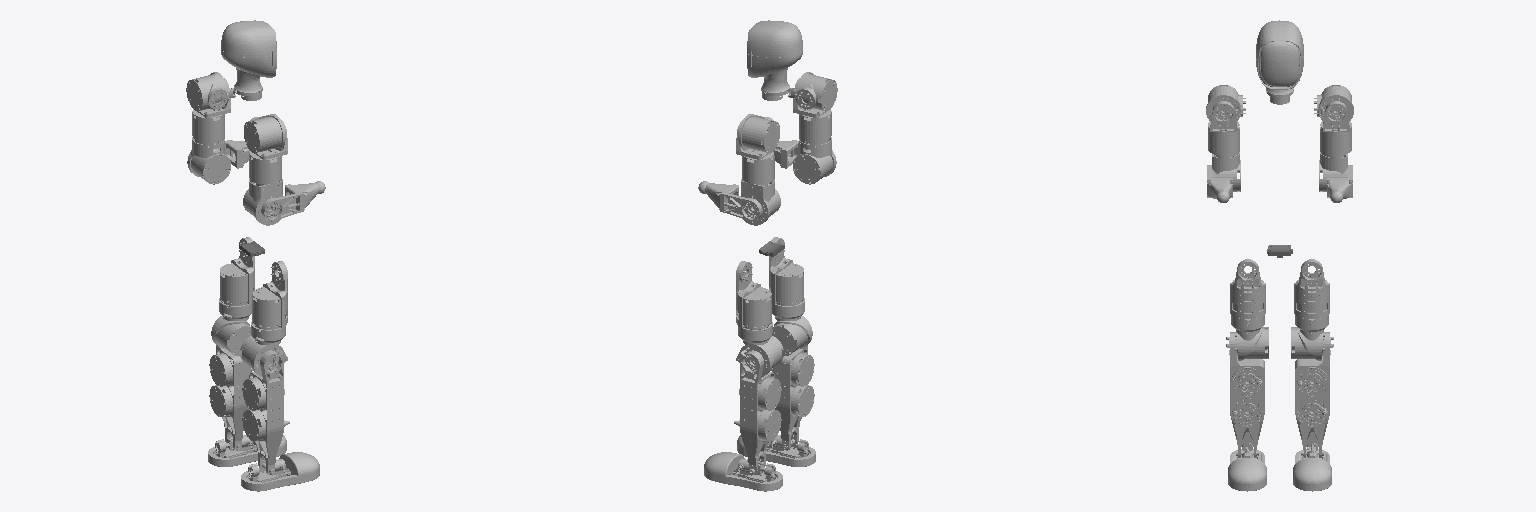
robot.urdf — mini3_27:
<?xml version="1.0"?>
<robot name="mini3_27">

    <link name="base_link">
      <visual>
        <origin xyz="0 0 0" rpy="0 0 0" />
        <geometry>
        <mesh filename="../meshes/base_link_mj.STL" />
        </geometry>
        <material>
          <color rgba="0.74902353 0.74902353 0.74902353 1.00000000" />
        </material>
      </visual>
      <collision>
        <origin xyz="0.0054139 0.0000217 0.0040027" rpy="1.5707963 0 0" />
        <geometry>
          <cylinder radius="0.035" length="0.12" />
        </geometry>
      </collision>
      <inertial>
        <origin xyz="-0.00087 -0.0000002 0.002345" rpy="0 0 0" />
        <mass value="1.0050972" />
        <inertia ixx="0.0015078" ixy="1.01901e-07" ixz="1.681366e-05" iyy="0.0005737024" iyz="-1.01901e-07" izz="0.0014912" />
      </inertial>
    </link>

    <link name="imu_link">
      <visual>
        <origin xyz="0 0 0" rpy="0 0 0" />
        <geometry>
        <mesh filename="../meshes/imu_link.STL" />
        </geometry>
        <material>
          <color rgba="0.49804314 0.49804314 0.49804314 1.00000000" />
        </material>
      </visual>
      <inertial>
        <origin xyz="0.0000067 -0.0001099 0.0066282" rpy="0 0 0" />
        <mass value="0.026293" />
        <inertia ixx="3.834323e-06" ixy="0" ixz="0" iyy="2.440024e-06" iyz="0" izz="5.577197e-06" />
      </inertial>
    </link>

    <link name="left_hip_pitch_link">
      <visual>
        <origin xyz="0 0 0" rpy="0 0 0" />
        <geometry>
        <mesh filename="../meshes/left_hip_pitch_link.STL" />
        </geometry>
        <material>
          <color rgba="0.74902353 0.74902353 0.74902353 1.00000000" />
        </material>
      </visual>
      <inertial>
        <origin xyz="-0.0029284 0.0018352 -0.0518352" rpy="0 0 0" />
        <mass value="0.4980043" />
        <inertia ixx="0.0003398972" ixy="-3.013458e-06" ixz="-1.870422e-05" iyy="0.0003523667" iyz="-1.537902e-05" izz="0.0002316206" />
      </inertial>
    </link>

    <link name="left_hip_roll_link">
      <visual>
        <origin xyz="0 0 0" rpy="0 0 0" />
        <geometry>
        <mesh filename="../meshes/left_hip_roll_link.STL" />
        </geometry>
        <material>
          <color rgba="0.74902353 0.74902353 0.74902353 1.00000000" />
        </material>
      </visual>
      <collision>
        <origin xyz="-0.013 0.00 -0.075" rpy="0 0 0" />
        <geometry>
          <cylinder radius="0.035" length="0.06" />
        </geometry>
      </collision>
      <inertial>
        <origin xyz="-0.0103937 -0.000043 -0.0562074" rpy="0 0 0" />
        <mass value="0.478866" />
        <inertia ixx="0.0003235694" ixy="-1.040751e-07" ixz="-4.79786e-05" iyy="0.0003326239" iyz="6.244504e-07" izz="0.0002055482" />
      </inertial>
    </link>

    <link name="left_hip_yaw_link">
      <visual>
        <origin xyz="0 0 0" rpy="0 0 0" />
        <geometry>
        <mesh filename="../meshes/left_hip_yaw_link.STL" />
        </geometry>
        <material>
          <color rgba="0.74902353 0.74902353 0.74902353 1.00000000" />
        </material>
      </visual>
      <inertial>
        <origin xyz="-0.0044749 -0.002653 -0.0538143" rpy="0 0 0" />
        <mass value="0.4886384" />
        <inertia ixx="0.0003362007" ixy="-6.75937e-06" ixz="-2.838935e-05" iyy="0.0003385924" iyz="-1.93422e-05" izz="0.0002201475" />
      </inertial>
    </link>

    <link name="left_knee_pitch_link">
      <visual>
        <origin xyz="0 0 0" rpy="0 0 0" />
        <geometry>
        <mesh filename="../meshes/left_knee_pitch_link.STL" />
        </geometry>
        <material>
          <color rgba="0.74902353 0.74902353 0.74902353 1.00000000" />
        </material>
      </visual>
      <collision>
        <origin xyz="0.0023641 -0.0155939 -0.1003981" rpy="0 0 0" />
        <geometry>
          <cylinder radius="0.045" length="0.15" />
        </geometry>
      </collision>
      <inertial>
        <origin xyz="0.00524 -0.01321 -0.0967858" rpy="0 0 0" />
        <mass value="0.9651771" />
        <inertia ixx="0.0021286" ixy="4.079245e-07" ixz="1.427736e-05" iyy="0.0020648" iyz="-7.587396e-05" izz="0.0004503487" />
      </inertial>
    </link>

    <link name="left_ankle_pitch_link">
      <visual>
        <origin xyz="0 0 0" rpy="0 0 0" />
        <geometry>
        <mesh filename="../meshes/left_ankle_pitch_link.STL" />
        </geometry>
        <material>
          <color rgba="0.74902353 0.74902353 0.74902353 1.00000000" />
        </material>
      </visual>
      <inertial>
        <origin xyz="-0.0018094 -0.0002054 0" rpy="0 0 0" />
        <mass value="0.0606722" />
        <inertia ixx="2.605063e-06" ixy="0" ixz="0" iyy="7.525737e-06" iyz="0" izz="6.367931e-06" />
      </inertial>
    </link>

    <link name="left_ankle_roll_link">
      <visual>
        <origin xyz="0 0 0" rpy="0 0 0" />
        <geometry>
        <mesh filename="../meshes/left_ankle_roll_link.STL" />
        </geometry>
        <material>
          <color rgba="0.74902353 0.74902353 0.74902353 1.00000000" />
        </material>
      </visual>
      <collision>
        <!-- <origin xyz="0.027 0 -0.018" rpy="0 0 0" /> -->
        <origin xyz="0.0 0.0 0.0" rpy="0 0 0" />
        <geometry>
          <!-- <box size="0.13 0.05 0.02" /> -->
          <mesh filename="../meshes/left_ankle_roll_link.STL" />
        </geometry>
      </collision>
      <inertial>
        <origin xyz="0.0237005 -0.0000052 -0.0148858" rpy="0 0 0" />
        <mass value="0.2257336" />
        <inertia ixx="8.321178e-05" ixy="0" ixz="9.597165e-06" iyy="0.0003770159" iyz="0" izz="0.0004089701" />
      </inertial>
    </link>

    <link name="right_hip_pitch_link">
      <visual>
        <origin xyz="0 0 0" rpy="0 0 0" />
        <geometry>
        <mesh filename="../meshes/right_hip_pitch_link.STL" />
        </geometry>
        <material>
          <color rgba="0.74902353 0.74902353 0.74902353 1.00000000" />
        </material>
      </visual>
      <inertial>
        <origin xyz="-0.0029286 -0.0018352 -0.0519071" rpy="0 0 0" />
        <mass value="0.4980042" />
        <inertia ixx="0.0003405207" ixy="3.013458e-06" ixz="-2.02629e-05" iyy="0.0003528863" iyz="1.527511e-05" izz="0.0002316206" />
      </inertial>
    </link>

    <link name="right_hip_roll_link">
      <visual>
        <origin xyz="0 0 0" rpy="0 0 0" />
        <geometry>
        <mesh filename="../meshes/right_hip_roll_link.STL" />
        </geometry>
        <material>
          <color rgba="0.74902353 0.74902353 0.74902353 1.00000000" />
        </material>
      </visual>
      <collision>
        <origin xyz="-0.013 0.0 -0.075" rpy="0 0 0" />
        <geometry>
          <cylinder radius="0.035" length="0.06" />
        </geometry>
      </collision>
      <inertial>
        <origin xyz="-0.0103937 0.0000429 -0.0562074" rpy="0 0 0" />
        <mass value="0.478866" />
        <inertia ixx="0.0003235694" ixy="1.040751e-07" ixz="-4.79786e-05" iyy="0.0003326239" iyz="-6.244504e-07" izz="0.0002055482" />
      </inertial>
    </link>

    <link name="right_hip_yaw_link">
      <visual>
        <origin xyz="0 0 0" rpy="0 0 0" />
        <geometry>
        <mesh filename="../meshes/right_hip_yaw_link.STL" />
        </geometry>
        <material>
          <color rgba="0.74902353 0.74902353 0.74902353 1.00000000" />
        </material>
      </visual>
      <inertial>
        <origin xyz="-0.004476 0.0027092 -0.0538973" rpy="0 0 0" />
        <mass value="0.4886279" />
        <inertia ixx="0.0003368249" ixy="7.071347e-06" ixz="-2.859736e-05" iyy="0.0003394247" iyz="2.038212e-05" izz="0.0002200437" />
      </inertial>
    </link>

    <link name="right_knee_pitch_link">
      <visual>
        <origin xyz="0 0 0" rpy="0 0 0" />
        <geometry>
        <mesh filename="../meshes/right_knee_pitch_link.STL" />
        </geometry>
        <material>
          <color rgba="0.74902353 0.74902353 0.74902353 1.00000000" />
        </material>
      </visual>
      <collision>
        <origin xyz="0.0025553 0.015072 -0.10242" rpy="0 0 0" />
        <geometry>
          <cylinder radius="0.045" length="0.15" />
        </geometry>
      </collision>
      <inertial>
        <origin xyz="0.00524 0.0131919 -0.096817" rpy="0 0 0" />
        <mass value="0.9651751" />
        <inertia ixx="0.0021255" ixy="-1.223774e-06" ixz="1.284962e-05" iyy="0.0020617" iyz="7.668982e-05" izz="0.0004503487" />
      </inertial>
    </link>

    <link name="right_ankle_pitch_link">
      <visual>
        <origin xyz="0 0 0" rpy="0 0 0" />
        <geometry>
        <mesh filename="../meshes/right_ankle_pitch_link.STL" />
        </geometry>
        <material>
          <color rgba="0.74902353 0.74902353 0.74902353 1.00000000" />
        </material>
      </visual>
      <inertial>
        <origin xyz="-0.0018094 -0.0002054 0" rpy="0 0 0" />
        <mass value="0.0606722" />
        <inertia ixx="2.605063e-06" ixy="0" ixz="0" iyy="7.525737e-06" iyz="0" izz="6.367931e-06" />
      </inertial>
    </link>

    <link name="right_ankle_roll_link">
      <visual>
        <origin xyz="0 0 0" rpy="0 0 0" />
        <geometry>
        <mesh filename="../meshes/right_ankle_roll_link.STL" />
        </geometry>
        <material>
          <color rgba="0.74902353 0.74902353 0.74902353 1.00000000" />
        </material>
      </visual>
      <collision>
        <!-- <origin xyz="0.027 0 -0.018" rpy="0 0 0" /> -->
        <origin xyz="0.0 0.0 0.0" rpy="0 0 0" />
        <geometry>
          <!-- <box size="0.13 0.05 0.02" /> -->
          <mesh filename="../meshes/right_ankle_roll_link.STL" />
        </geometry>
      </collision>
      <inertial>
        <origin xyz="0.0237005 -0.0000052 -0.0148858" rpy="0 0 0" />
        <mass value="0.2257336" />
        <inertia ixx="8.321178e-05" ixy="0" ixz="9.597165e-06" iyy="0.0003770159" iyz="0" izz="0.0004089701" />
      </inertial>
    </link>

    <link name="waist_yaw_link">
      <visual>
        <origin xyz="0 0 0" rpy="0 0 0" />
        <geometry>
        <mesh filename="../meshes/waist_yaw_link_mj.STL" />
        </geometry>
        <material>
          <color rgba="0.74902353 0.74902353 0.74902353 1.00000000" />
        </material>
      </visual>
      <collision>
        <origin xyz="0.0148498 0 0.13" rpy="0 0 0" />
        <geometry>
          <box size="0.11 0.12 0.15" />
        </geometry>
      </collision>
      <inertial>
        <origin xyz="0.0071604 -0.0003445 0.1204239" rpy="0 0 0" />
        <mass value="3.4517348" />
        <inertia ixx="0.0167038" ixy="2.636183e-05" ixz="0.0003811874" iyy="0.0152238" iyz="2.624415e-05" izz="0.00595" />
      </inertial>
    </link>

    <link name="head_link">
      <visual>
        <origin xyz="0 0 0" rpy="0 0 0" />
        <geometry>
        <mesh filename="../meshes/head_link.STL" />
        </geometry>
        <material>
          <color rgba="0.74902353 0.74902353 0.74902353 1.00000000" />
        </material>
      </visual>
      <collision>
        <origin xyz="-0.0006086 -0.000089 0.03" rpy="0 0 0" />
        <geometry>
          <cylinder radius="0.05" length="0.09" />
        </geometry>
      </collision>
      <inertial>
        <origin xyz="0.0019948 0.0000069 0.0196542" rpy="0 0 0" />
        <mass value="0.1674291" />
        <inertia ixx="0.0003061895" ixy="0" ixz="1.767994e-05" iyy="0.0003440268" iyz="0" izz="0.0002040512" />
      </inertial>
    </link>

    <link name="left_shoulder_pitch_link">
      <visual>
        <origin xyz="0 0 0" rpy="0 0 0" />
        <geometry>
        <mesh filename="../meshes/left_shoulder_pitch_link.STL" />
        </geometry>
        <material>
          <color rgba="0.74902353 0.74902353 0.74902353 1.00000000" />
        </material>
      </visual>
      <inertial>
        <origin xyz="0.0018336 0.0301072 -0.0000031" rpy="0 0 0" />
        <mass value="0.3669218" />
        <inertia ixx="0.0001734642" ixy="3.899255e-06" ixz="0" iyy="0.0001478555" iyz="0" izz="0.0001642956" />
      </inertial>
    </link>

    <link name="left_shoulder_roll_link">
      <visual>
        <origin xyz="0 0 0" rpy="0 0 0" />
        <geometry>
        <mesh filename="../meshes/left_shoulder_roll_link.STL" />
        </geometry>
        <material>
          <color rgba="0.74902353 0.74902353 0.74902353 1.00000000" />
        </material>
      </visual>
      <collision>
        <origin xyz="-0.0153644 -0.0026942 -0.06" rpy="0 0 0" />
        <geometry>
          <cylinder radius="0.03" length="0.1" />
        </geometry>
      </collision>
      <inertial>
        <origin xyz="-0.0149271 -0.0008274 -0.0500124" rpy="0 0 0" />
        <mass value="0.3853307" />
        <inertia ixx="0.0002561649" ixy="-4.204593e-07" ixz="-4.635564e-05" iyy="0.0002703554" iyz="-4.730168e-06" izz="0.0001733344" />
      </inertial>
    </link>

    <link name="left_shoulder_yaw_link">
      <visual>
        <origin xyz="0 0 0" rpy="0 0 0" />
        <geometry>
        <mesh filename="../meshes/left_shoulder_yaw_link.STL" />
        </geometry>
        <material>
          <color rgba="0.74902353 0.74902353 0.74902353 1.00000000" />
        </material>
      </visual>
      <inertial>
        <origin xyz="-0.0000206 -0.000693 -0.0405367" rpy="0 0 0" />
        <mass value="0.3939033" />
        <inertia ixx="0.0002169258" ixy="-3.149939e-07" ixz="3.149939e-07" iyy="0.0002319405" iyz="-4.934904e-06" izz="0.0001630618" />
      </inertial>
    </link>

    <link name="left_elbow_pitch_link">
      <visual>
        <origin xyz="0 0 0" rpy="0 0 0" />
        <geometry>
        <mesh filename="../meshes/left_elbow_pitch_link.STL" />
        </geometry>
        <material>
          <color rgba="0.74902353 0.74902353 0.74902353 1.00000000" />
        </material>
      </visual>
      <collision>
        <origin xyz="0.107 -0.018 0.0085" rpy="0 0 0" />
        <geometry>
          <sphere radius="0.0116" />
        </geometry>
      </collision>
      <inertial>
        <origin xyz="0.0395905 -0.005665 0.0018103" rpy="0 0 0" />
        <mass value="0.0894731" />
        <inertia ixx="3.09954e-05" ixy="2.188655e-05" ixz="-5.186986e-06" iyy="0.0001039927" iyz="1.138607e-06" izz="0.0001093062" />
      </inertial>
    </link>

    <link name="right_shoulder_pitch_link">
      <visual>
        <origin xyz="0 0 0" rpy="0 0 0" />
        <geometry>
        <mesh filename="../meshes/right_shoulder_pitch_link.STL" />
        </geometry>
        <material>
          <color rgba="0.74902353 0.74902353 0.74902353 1.00000000" />
        </material>
      </visual>
      <inertial>
        <origin xyz="0.0018237 -0.0302369 0.0000067" rpy="0 0 0" />
        <mass value="0.3669218" />
        <inertia ixx="0.0001736749" ixy="-5.374649e-06" ixz="0" iyy="0.0001478555" iyz="0" izz="0.0001645064" />
      </inertial>
    </link>

    <link name="right_shoulder_roll_link">
      <visual>
        <origin xyz="0 0 0" rpy="0 0 0" />
        <geometry>
        <mesh filename="../meshes/right_shoulder_roll_link.STL" />
        </geometry>
        <material>
          <color rgba="0.74902353 0.74902353 0.74902353 1.00000000" />
        </material>
      </visual>
      <collision>
        <origin xyz="-0.01513 0.0015086 -0.06" rpy="0 0 0" />
        <geometry>
          <cylinder radius="0.03" length="0.1" />
        </geometry>
      </collision>
      <inertial>
        <origin xyz="-0.0149019 0.000812 -0.0499282" rpy="0 0 0" />
        <mass value="0.3856285" />
        <inertia ixx="0.0002572058" ixy="4.204427e-07" ixz="-4.666914e-05" iyy="0.0002715009" iyz="4.729981e-06" izz="0.0001735377" />
      </inertial>
    </link>

    <link name="right_shoulder_yaw_link">
      <visual>
        <origin xyz="0 0 0" rpy="0 0 0" />
        <geometry>
        <mesh filename="../meshes/right_shoulder_yaw_link.STL" />
        </geometry>
        <material>
          <color rgba="0.74902353 0.74902353 0.74902353 1.00000000" />
        </material>
      </visual>
      <inertial>
        <origin xyz="-0.0000206 0.000697 -0.0404716" rpy="0 0 0" />
        <mass value="0.3942011" />
        <inertia ixx="0.0002176525" ixy="3.14982e-07" ixz="2.09988e-07" iyy="0.0002325617" iyz="4.934718e-06" izz="0.0001630557" />
      </inertial>
    </link>

    <link name="right_elbow_pitch_link">
      <visual>
        <origin xyz="0 0 0" rpy="0 0 0" />
        <geometry>
        <mesh filename="../meshes/right_elbow_pitch_link.STL" />
        </geometry>
        <material>
          <color rgba="0.74902353 0.74902353 0.74902353 1.00000000" />
        </material>
      </visual>
      <collision>
        <origin xyz="0.107 0.018 0.0085" rpy="0 0 0" />
        <geometry>
          <sphere radius="0.0116" />
        </geometry>
      </collision>
      <inertial>
        <origin xyz="0.0395959 0.0056647 0.0018132" rpy="0 0 0" />
        <mass value="0.0894753" />
        <inertia ixx="3.09952e-05" ixy="-2.188641e-05" ixz="-5.186952e-06" iyy="0.0001039921" iyz="-1.138599e-06" izz="0.0001093055" />
      </inertial>
    </link>

  <joint name="imu_joint" type="fixed">
    <parent link="base_link" />
    <child link="imu_link" />
    <origin xyz="0 0 -0.044" rpy="0 0 0" />
  </joint>

  <joint name="left_hip_pitch_joint" type="revolute">
    <parent link="base_link" />
    <child link="left_hip_pitch_link" />
    <origin xyz="0 0.05775 0" rpy="0 0 0" />
    <axis xyz="0 1 0" />
    <limit lower="-1.8326" upper="1.8326" effort="27" velocity="10" />
  </joint>

  <joint name="left_hip_roll_joint" type="revolute">
    <parent link="left_hip_pitch_link" />
    <child link="left_hip_roll_link" />
    <origin xyz="0.018 -0.001 -0.064" rpy="0 0 0" />
    <axis xyz="1 0 0" />
    <limit lower="-0.8727" upper="1.3963" effort="27" velocity="10" />
  </joint>

  <joint name="left_hip_yaw_joint" type="revolute">
    <parent link="left_hip_roll_link" />
    <child link="left_hip_yaw_link" />
    <origin xyz="-0.0173 0 -0.08905" rpy="0 0 0" />
    <axis xyz="0 0 1" />
    <limit lower="-1.9199" upper="1.9199" effort="27" velocity="10" />
  </joint>

  <joint name="left_knee_pitch_joint" type="revolute">
    <parent link="left_hip_yaw_link" />
    <child link="left_knee_pitch_link" />
    <origin xyz="-0.0079999 0.01605 -0.068" rpy="0 0 0" />
    <axis xyz="0 1 0" />
    <limit lower="-0.3491" upper="1.9199" effort="27" velocity="10" />
  </joint>

  <joint name="left_ankle_pitch_joint" type="revolute">
    <parent link="left_knee_pitch_link" />
    <child link="left_ankle_pitch_link" />
    <origin xyz="0.0040003 -0.015 -0.214" rpy="0 0 0" />
    <axis xyz="0 1 0" />
    <limit lower="-0.7" upper="0.7" effort="25" velocity="45" />
  </joint>

  <joint name="left_ankle_roll_joint" type="revolute">
    <parent link="left_ankle_pitch_link" />
    <child link="left_ankle_roll_link" />
    <origin xyz="0 0 0" rpy="0 0 0" />
    <axis xyz="1 0 0" />
    <limit lower="-0.518" upper="0.518" effort="25" velocity="45" />
  </joint>

  <joint name="right_hip_pitch_joint" type="revolute">
    <parent link="base_link" />
    <child link="right_hip_pitch_link" />
    <origin xyz="0 -0.05775 0" rpy="0 0 0" />
    <axis xyz="0 1 0" />
    <limit lower="-1.8326" upper="1.8326" effort="27" velocity="10" />
  </joint>

  <joint name="right_hip_roll_joint" type="revolute">
    <parent link="right_hip_pitch_link" />
    <child link="right_hip_roll_link" />
    <origin xyz="0.018 0.001 -0.064" rpy="0 0 0" />
    <axis xyz="1 0 0" />
    <limit lower="-1.3963" upper="0.8727" effort="27" velocity="10" />
  </joint>

  <joint name="right_hip_yaw_joint" type="revolute">
    <parent link="right_hip_roll_link" />
    <child link="right_hip_yaw_link" />
    <origin xyz="-0.0173 0 -0.08905" rpy="0 0 0" />
    <axis xyz="0 0 1" />
    <limit lower="-1.9199" upper="1.9199" effort="27" velocity="10" />
  </joint>

  <joint name="right_knee_pitch_joint" type="revolute">
    <parent link="right_hip_yaw_link" />
    <child link="right_knee_pitch_link" />
    <origin xyz="-0.0079999 -0.01605 -0.068" rpy="0 0 0" />
    <axis xyz="0 1 0" />
    <limit lower="-0.3491" upper="1.9199" effort="27" velocity="10" />
  </joint>

  <joint name="right_ankle_pitch_joint" type="revolute">
    <parent link="right_knee_pitch_link" />
    <child link="right_ankle_pitch_link" />
    <origin xyz="0.0040003 0.015 -0.214" rpy="0 0 0" />
    <axis xyz="0 1 0" />
    <limit lower="-0.7" upper="0.7" effort="25" velocity="45" />
  </joint>

  <joint name="right_ankle_roll_joint" type="revolute">
    <parent link="right_ankle_pitch_link" />
    <child link="right_ankle_roll_link" />
    <origin xyz="0 0 0" rpy="0 0 0" />
    <axis xyz="1 0 0" />
    <limit lower="-0.518" upper="0.518" effort="25" velocity="45" />
  </joint>

  <joint name="waist_yaw_joint" type="revolute">
    <parent link="base_link" />
    <child link="waist_yaw_link" />
    <origin xyz="-0.022 0 0.0385" rpy="0 0 0" />
    <axis xyz="0 0 1" />
    <limit lower="-2.618" upper="2.618" effort="27" velocity="10" />
  </joint>

  <joint name="head_joint" type="fixed">
    <parent link="waist_yaw_link" />
    <child link="head_link" />
    <origin xyz="0.016552 0 0.27947" rpy="0 0 0" />
  </joint>

  <joint name="left_shoulder_pitch_joint" type="revolute">
    <parent link="waist_yaw_link" />
    <child link="left_shoulder_pitch_link" />
    <origin xyz="-0.008007 0.06505 0.19505" rpy="0 0 0" />
    <axis xyz="0 1 0" />
    <limit lower="-3.4907" upper="1.0472" effort="12.5" velocity="45" />
  </joint>

  <joint name="left_shoulder_roll_joint" type="revolute">
    <parent link="left_shoulder_pitch_link" />
    <child link="left_shoulder_roll_link" />
    <origin xyz="0.020507 0.035007 0" rpy="0 0 0" />
    <axis xyz="1 0 0" />
    <limit lower="-0.1745" upper="3.1416" effort="12.5" velocity="45" />
  </joint>

  <joint name="left_shoulder_yaw_joint" type="revolute">
    <parent link="left_shoulder_roll_link" />
    <child link="left_shoulder_yaw_link" />
    <origin xyz="-0.020507 0 -0.086048" rpy="0 0 0" />
    <axis xyz="0 0 1" />
    <limit lower="-1.5708" upper="1.5708" effort="12.5" velocity="45" />
  </joint>

  <joint name="left_elbow_pitch_joint" type="revolute">
    <parent link="left_shoulder_yaw_link" />
    <child link="left_elbow_pitch_link" />
    <origin xyz="0.0000128 0.018503 -0.051005" rpy="0 0 0" />
    <axis xyz="0 1 0" />
    <limit lower="-0.576" upper="3.8397" effort="12.5" velocity="45" />
  </joint>

  <joint name="right_shoulder_pitch_joint" type="revolute">
    <parent link="waist_yaw_link" />
    <child link="right_shoulder_pitch_link" />
    <origin xyz="-0.0079971 -0.06505 0.19504" rpy="0 0 0" />
    <axis xyz="0 1 0" />
    <limit lower="-3.4907" upper="1.0472" effort="12.5" velocity="45" />
  </joint>

  <joint name="right_shoulder_roll_joint" type="revolute">
    <parent link="right_shoulder_pitch_link" />
    <child link="right_shoulder_roll_link" />
    <origin xyz="0.020497 -0.034993 0" rpy="0 0 0" />
    <axis xyz="1 0 0" />
    <limit lower="-3.1416" upper="0.1745" effort="12.5" velocity="45" />
  </joint>

  <joint name="right_shoulder_yaw_joint" type="revolute">
    <parent link="right_shoulder_roll_link" />
    <child link="right_shoulder_yaw_link" />
    <origin xyz="-0.020507 0 -0.086048" rpy="0 0 0" />
    <axis xyz="0 0 1" />
    <limit lower="-1.5708" upper="1.5708" effort="12.5" velocity="45" />
  </joint>

  <joint name="right_elbow_pitch_joint" type="revolute">
    <parent link="right_shoulder_yaw_link" />
    <child link="right_elbow_pitch_link" />
    <origin xyz="0 -0.018497 -0.051007" rpy="0 0 0" />
    <axis xyz="0 1 0" />
    <limit lower="-0.576" upper="3.8397" effort="12.5" velocity="45" />
  </joint>

</robot>

--- Facts derived from the render (not from the file) ---
Views: 3 orthographic renders of the robot side by side, from view 1: azimuth 30°, elevation 25°; view 2: azimuth 150°, elevation 25°; view 3: azimuth 270°, elevation 25°.
Model mini3_27 with 24 links and 23 joints (21 revolute, 2 fixed), rooted at base_link, posed all joints at 0.
Visible links, largest first — view 1: right_knee_pitch_link, head_link, left_knee_pitch_link, right_ankle_roll_link, right_hip_roll_link, left_hip_roll_link, left_hip_yaw_link, left_shoulder_yaw_link, left_shoulder_pitch_link, right_hip_yaw_link, right_elbow_pitch_link, right_shoulder_pitch_link (+5 smaller); view 2: left_knee_pitch_link, head_link, right_knee_pitch_link, left_ankle_roll_link, left_hip_roll_link, right_hip_roll_link, right_hip_yaw_link, right_shoulder_yaw_link, right_shoulder_pitch_link, left_hip_yaw_link, left_elbow_pitch_link, left_shoulder_pitch_link (+5 smaller); view 3: head_link, right_knee_pitch_link, left_knee_pitch_link, left_hip_roll_link, right_hip_roll_link, right_shoulder_roll_link, left_shoulder_roll_link, right_ankle_roll_link, left_ankle_roll_link, left_hip_yaw_link, right_hip_yaw_link, left_shoulder_pitch_link (+5 smaller).
Boxes of the visible links, x1,y1,x2,y2 form: right_knee_pitch_link: (242,350,289,474); head_link: (221,20,276,100); left_knee_pitch_link: (209,345,252,450); right_ankle_roll_link: (241,452,319,491); right_hip_roll_link: (252,261,287,330); left_hip_roll_link: (220,237,254,306); left_hip_yaw_link: (211,298,251,355); left_shoulder_yaw_link: (187,137,230,184); left_shoulder_pitch_link: (186,72,235,110); right_hip_yaw_link: (240,322,287,377); right_elbow_pitch_link: (261,181,325,220); right_shoulder_pitch_link: (244,114,285,152); left_knee_pitch_link: (734,350,781,474); head_link: (747,20,802,100); right_knee_pitch_link: (771,345,814,450); left_ankle_roll_link: (704,452,782,491); left_hip_roll_link: (736,261,771,330); right_hip_roll_link: (769,237,803,306); right_hip_yaw_link: (772,298,812,355); right_shoulder_yaw_link: (793,137,836,184); right_shoulder_pitch_link: (788,72,837,110); left_hip_yaw_link: (736,322,783,377); left_elbow_pitch_link: (698,181,762,220); left_shoulder_pitch_link: (738,114,779,152); head_link: (1256,20,1303,104); right_knee_pitch_link: (1229,332,1264,457); left_knee_pitch_link: (1295,332,1330,457); left_hip_roll_link: (1294,259,1329,318); right_hip_roll_link: (1230,259,1265,318); right_shoulder_roll_link: (1208,101,1239,157); left_shoulder_roll_link: (1320,101,1351,157); right_ankle_roll_link: (1228,442,1266,491); left_ankle_roll_link: (1293,442,1331,491); left_hip_yaw_link: (1291,315,1333,360); right_hip_yaw_link: (1226,315,1268,360); left_shoulder_pitch_link: (1314,85,1353,121).
Bounding box of the posed robot: 0.1602 × 0.2629 × 0.863 m (x, y, z).
Meshes: 24 distinct files referenced, 19 mesh visuals loaded (19 binary STL); not drawn: 5 (reference not matched to a file when rendering).
